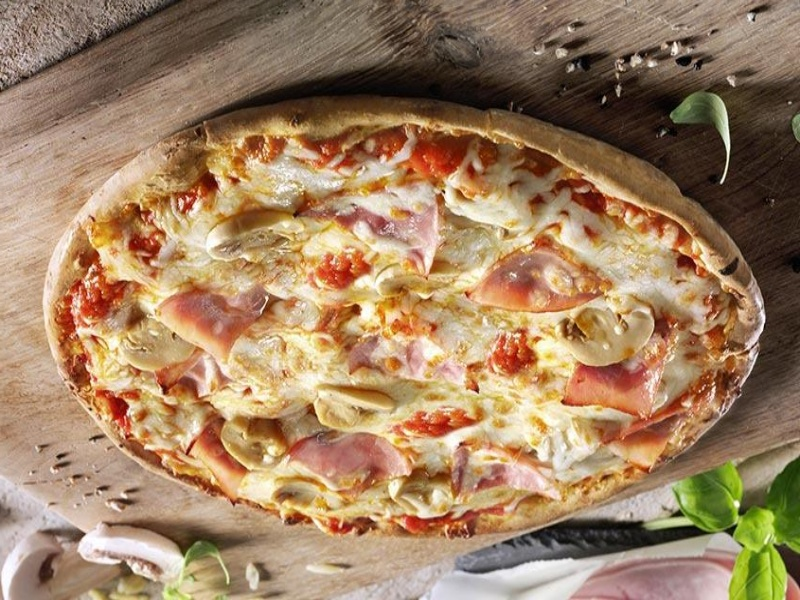champignon: (557, 304, 657, 373), (204, 212, 308, 267), (104, 319, 198, 377)
